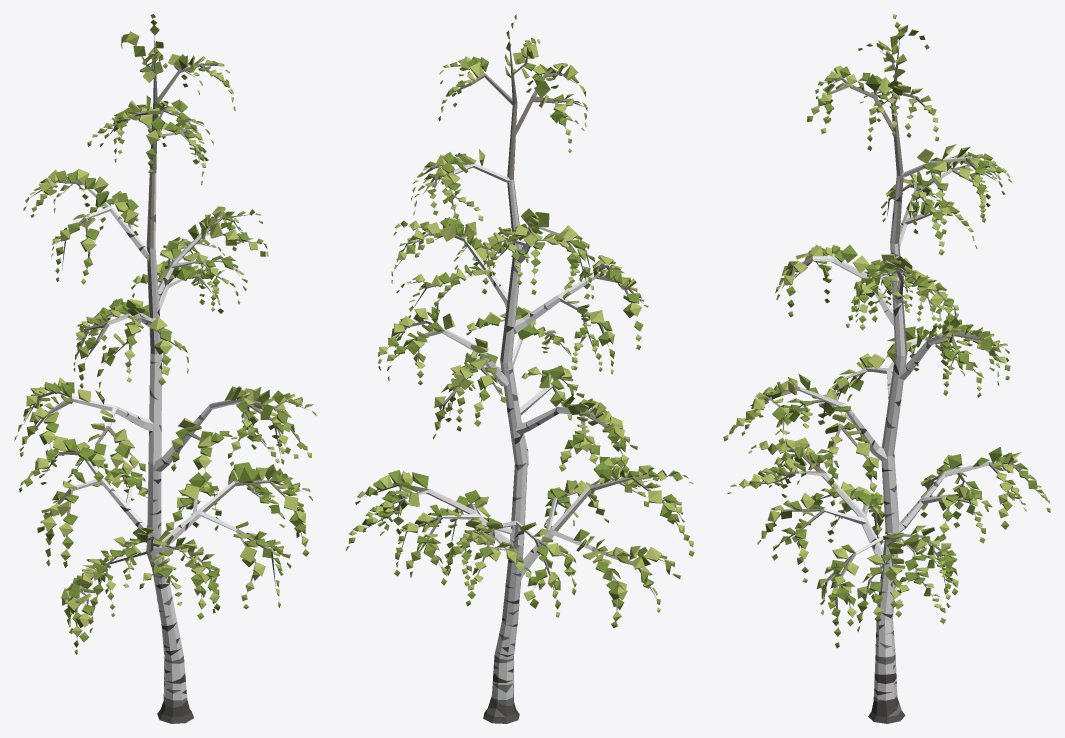
The model's file is birchTree(leaves).fbx.
The picture shows the model from 3 angles, left to right: view 1: azimuth 30°, elevation 25°; view 2: azimuth 150°, elevation 25°; view 3: azimuth 270°, elevation 25°; orthographic projection. The views are drawn at different scales.
Visible parts, largest first — view 1: Cylinder; view 2: Cylinder; view 3: Cylinder.
Part boxes in pixels (x1,y1,x2,y2): Cylinder: [14, 14, 316, 723]; Cylinder: [345, 14, 694, 723]; Cylinder: [723, 14, 1050, 723].
Bounding box in the file's own units: 1220 × 2908 × 1245.
